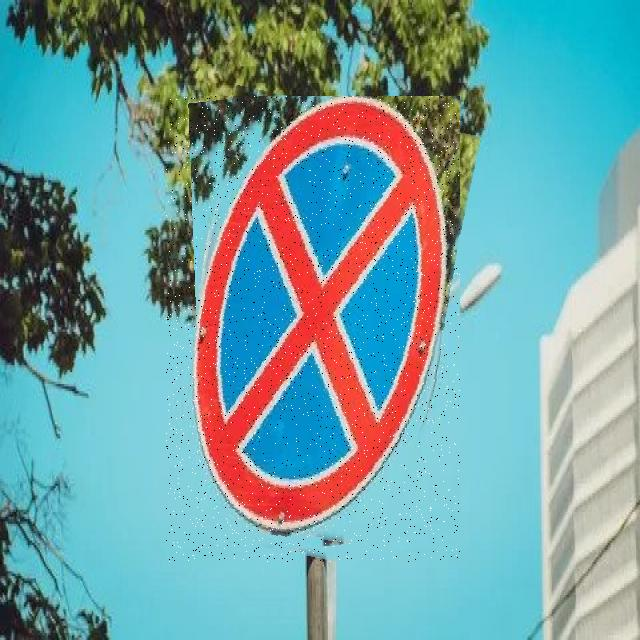no stopping: (166, 96, 460, 562)
